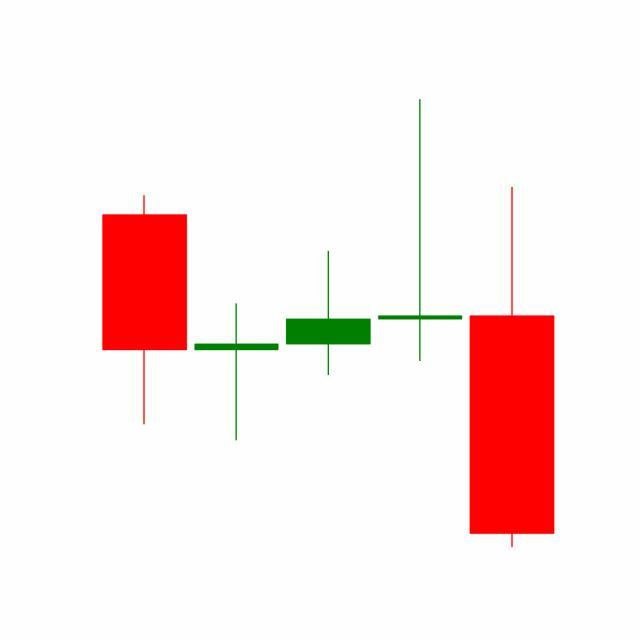Spinning Top: (374, 97, 468, 366)
